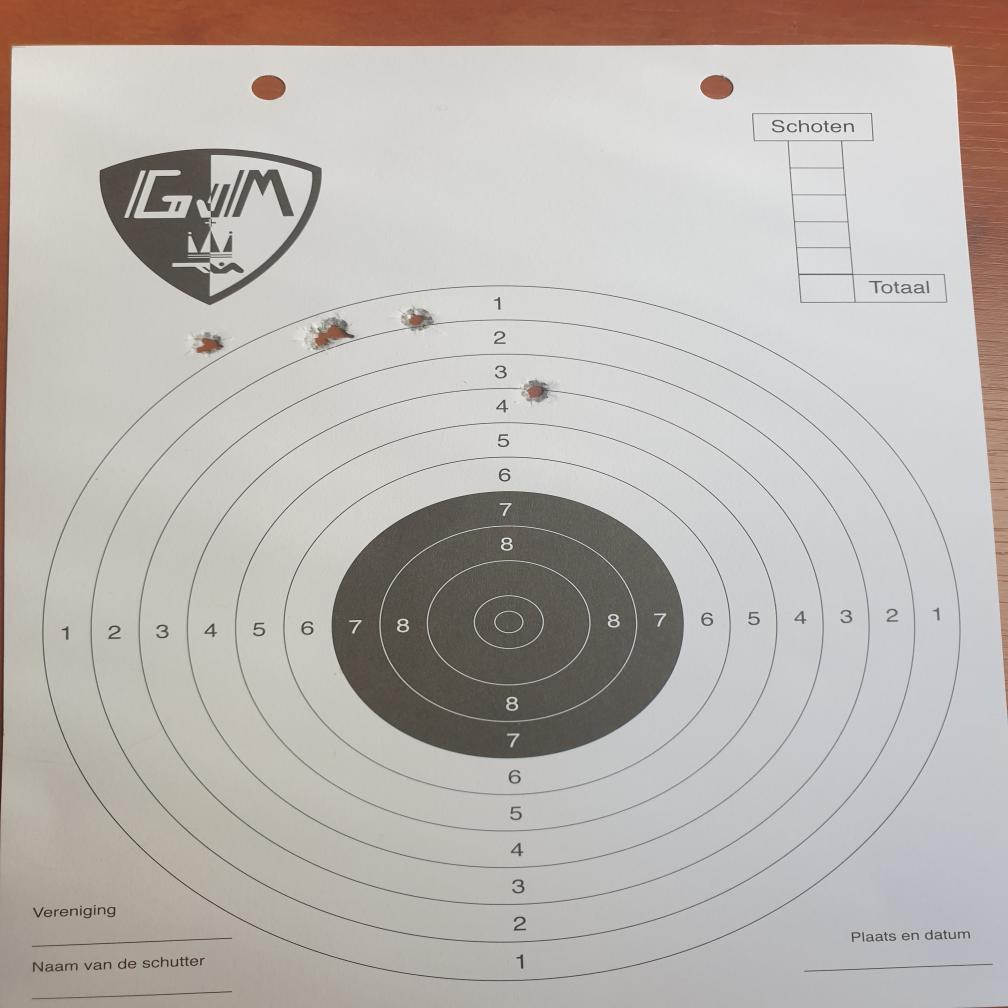0: (186, 330, 228, 358)
1: (317, 316, 355, 343)
2: (397, 303, 439, 336), (293, 324, 333, 352)
4: (514, 377, 557, 407)
Target: (38, 282, 964, 984)
black_contour: (332, 490, 686, 758)
